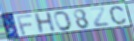8: (73, 8, 90, 30)
C: (109, 5, 128, 26)
F: (16, 14, 34, 36)
H: (33, 11, 58, 35)
O: (54, 11, 74, 32)
Z: (89, 7, 111, 29)
